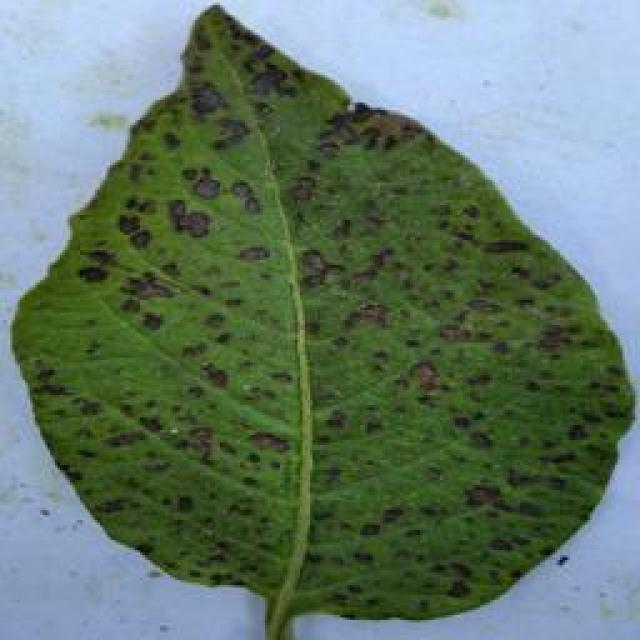Potato_Early_Blight: (0, 9, 631, 635)
